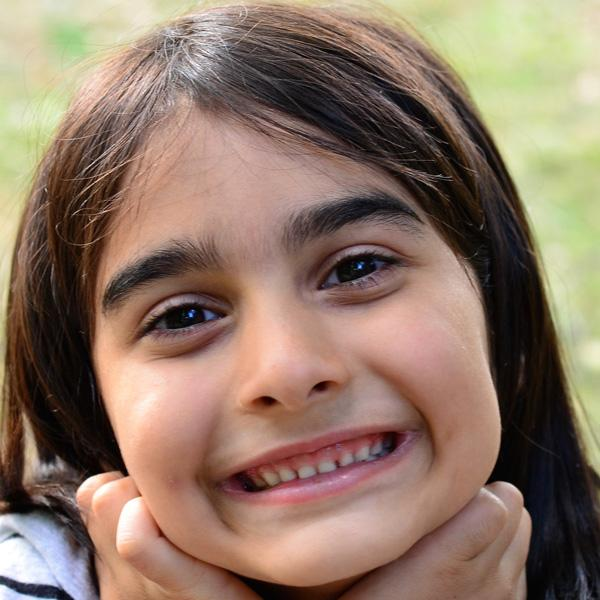Eyes: (128, 273, 245, 356), (300, 232, 416, 309)
